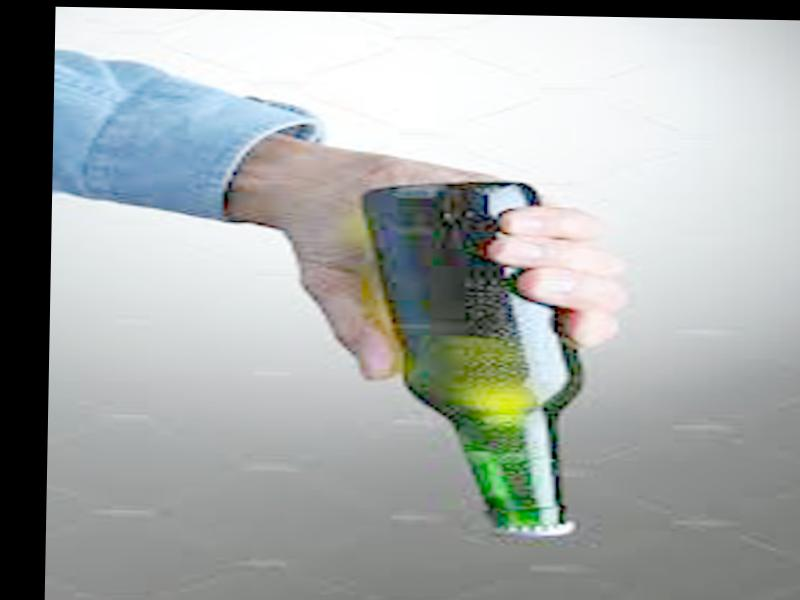Beer: (351, 177, 585, 541)
